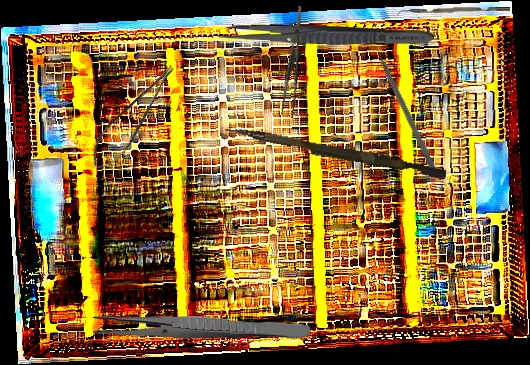Chopper: (396, 6, 511, 18)
Dressing Forceps: (219, 22, 435, 49), (92, 314, 311, 340)
Micro Scissor: (80, 61, 192, 176)
Pusher: (223, 125, 448, 180), (368, 34, 441, 178)
Tissue Forceps: (270, 5, 321, 119)
